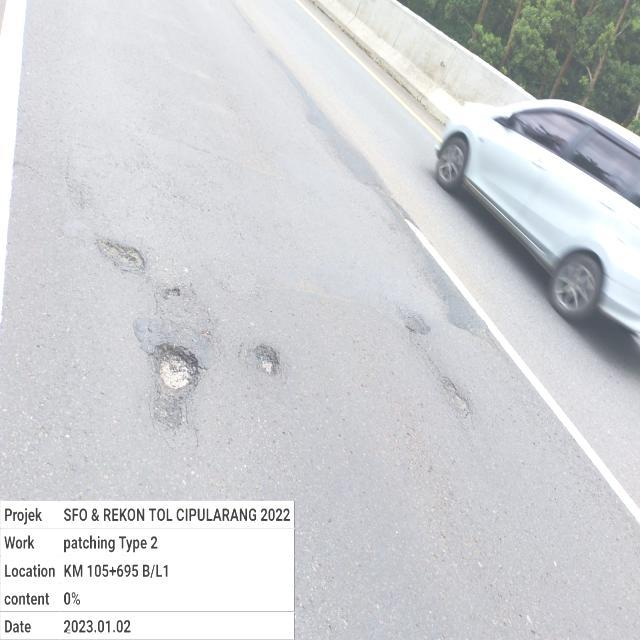Buraco: (146, 341, 209, 430), (92, 237, 148, 273), (250, 343, 284, 379)
